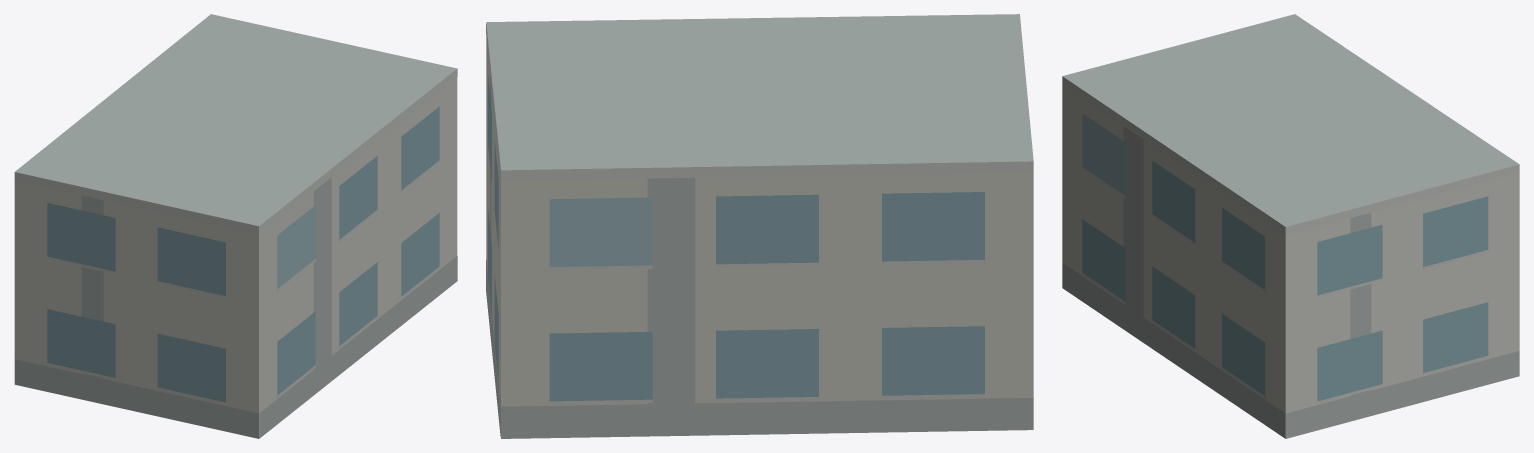
The model's file is survey-upis-32699723.glb.
3 renders of one model, left to right at view 1: azimuth 30°, elevation 25°; view 2: azimuth 150°, elevation 25°; view 3: azimuth 270°, elevation 25°, orthographic. The views are drawn at different scales.
Parts seen in each view (by area): view 1: survey-upis-32699723.tmp; view 2: survey-upis-32699723.tmp; view 3: survey-upis-32699723.tmp.
Part boxes in pixels (<box>): survey-upis-32699723.tmp: <box>14,14,457,438</box>; survey-upis-32699723.tmp: <box>486,14,1033,438</box>; survey-upis-32699723.tmp: <box>1062,14,1519,438</box>.
Size of the model in its own units: 13.16 by 6.1 by 11.94.
